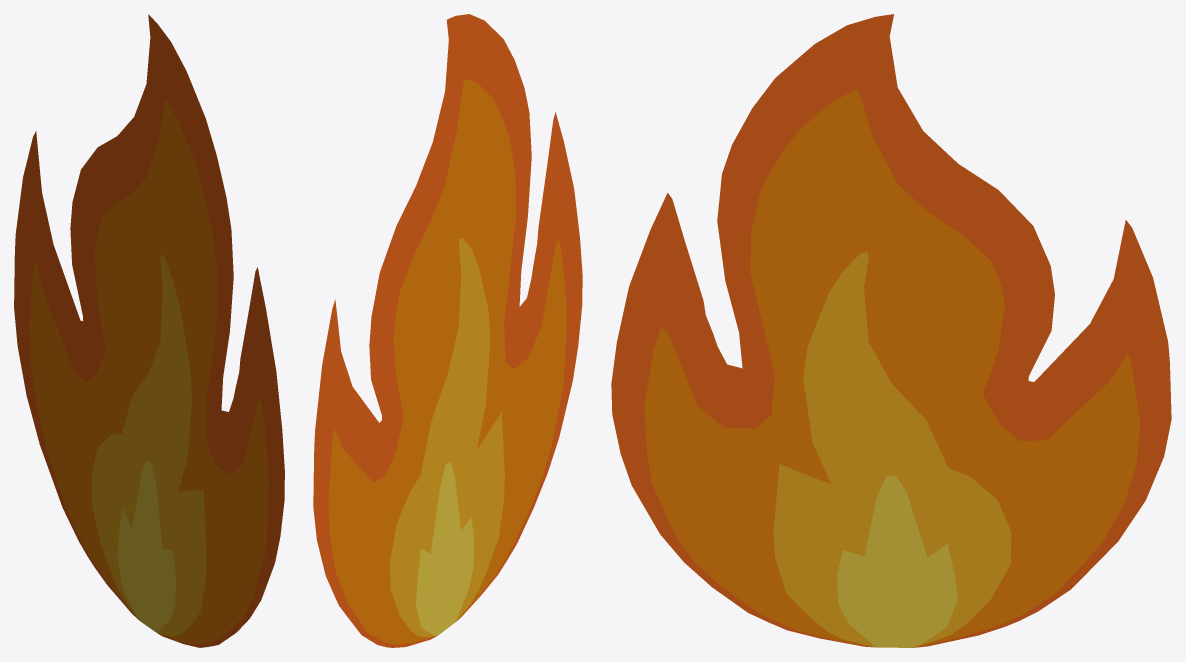
The model's file is Fire.fbx.
The picture shows the model from 3 angles, left to right: view 1: azimuth 30°, elevation 25°; view 2: azimuth 150°, elevation 25°; view 3: azimuth 270°, elevation 25°; orthographic projection. The views are drawn at different scales.
Visible parts, largest first — view 1: Fire; view 2: Fire; view 3: Fire.
Part boxes in pixels (x1,y1,x2,y2): Fire: [14, 14, 284, 647]; Fire: [313, 14, 582, 647]; Fire: [611, 14, 1171, 647].
Bounding box in the file's own units: 1.73e-07 × 1.93 × 1.55.
